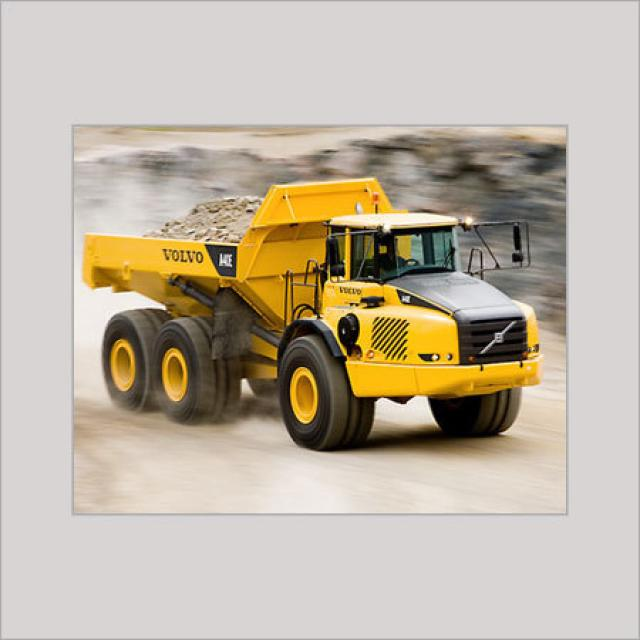dump_truck: (90, 168, 540, 465)
